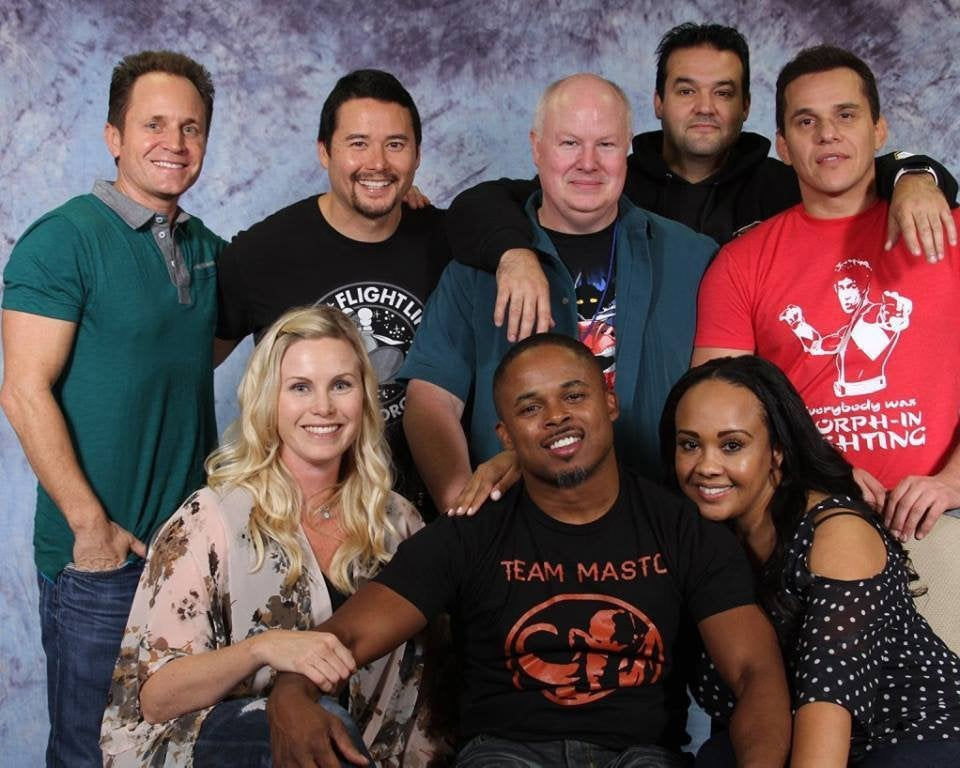bad: (653, 402, 760, 510), (509, 367, 617, 474), (782, 96, 872, 186), (653, 66, 743, 156), (126, 96, 215, 186), (544, 116, 633, 206), (335, 116, 424, 206), (275, 365, 364, 454)
